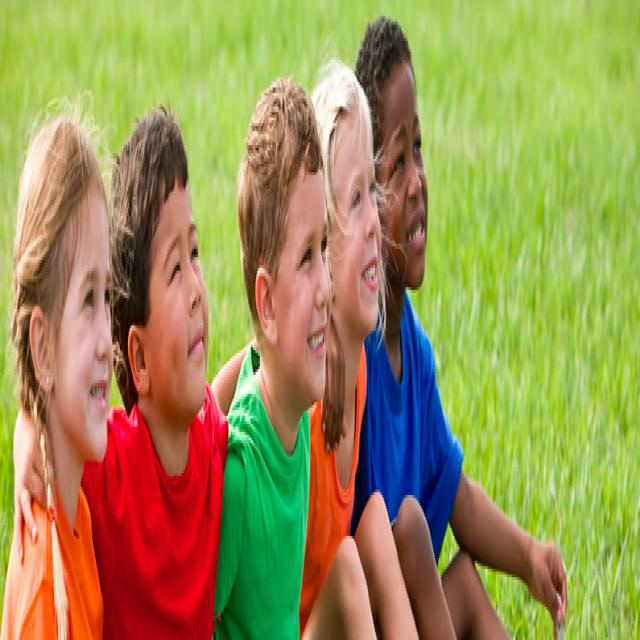child: (354, 16, 567, 640), (106, 95, 225, 640), (310, 59, 416, 640), (3, 101, 116, 640), (228, 79, 332, 640)
